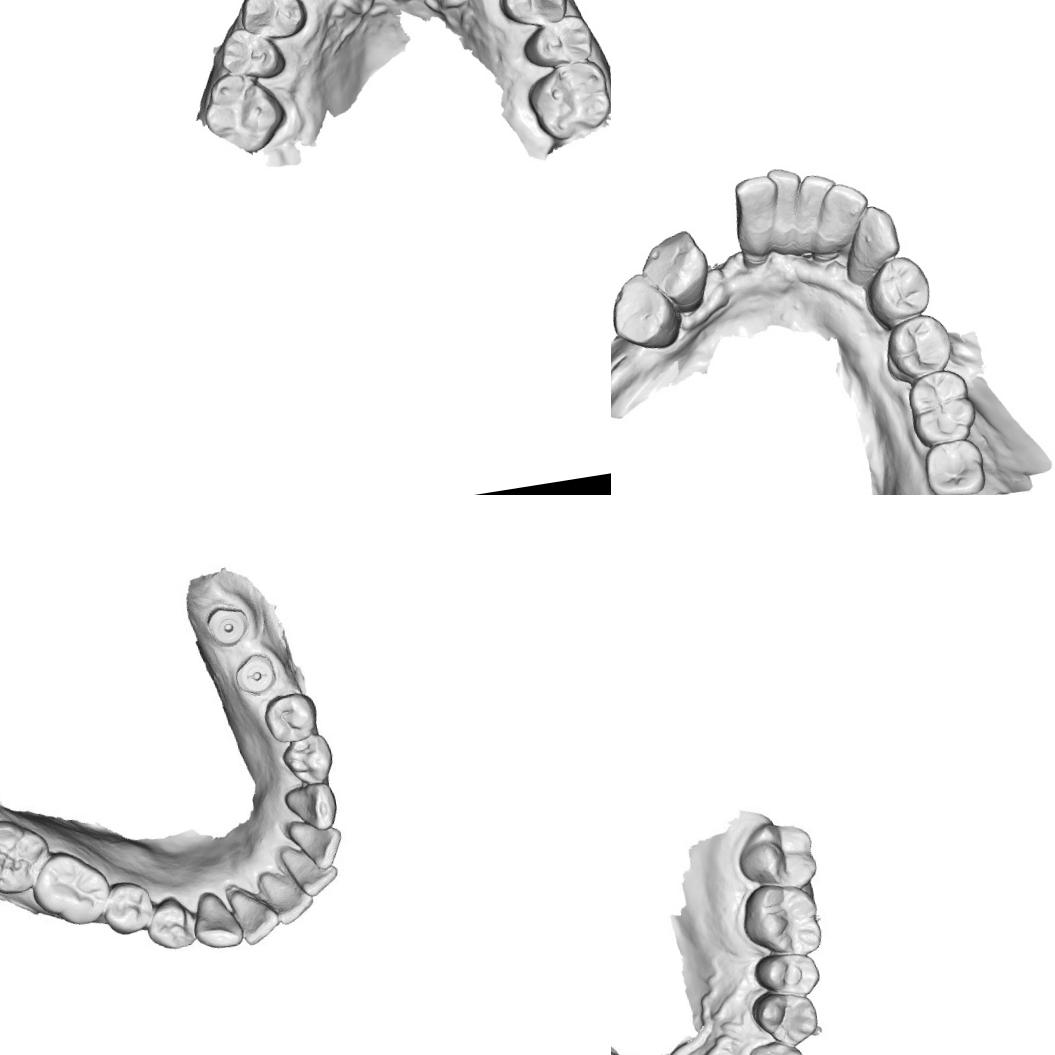canine: (837, 200, 904, 276), (191, 886, 248, 952), (284, 780, 334, 835), (748, 1036, 811, 1055)
implant: (202, 600, 252, 650)
implant_minus: (233, 650, 280, 700)
incisor: (810, 178, 875, 244), (729, 172, 786, 238), (225, 881, 280, 948), (278, 839, 339, 899), (760, 163, 809, 237), (788, 170, 843, 235), (288, 814, 348, 869), (257, 868, 314, 925)
molar: (196, 64, 290, 162), (523, 56, 611, 144), (734, 818, 822, 896), (28, 854, 110, 936), (741, 880, 825, 960), (902, 364, 980, 450), (0, 814, 52, 902), (917, 437, 988, 495)
premolar: (636, 224, 716, 314), (611, 266, 686, 358), (878, 308, 962, 384), (860, 250, 936, 328), (216, 22, 288, 86), (519, 11, 596, 70), (754, 989, 824, 1052), (756, 948, 820, 1004), (235, 0, 311, 45), (278, 732, 336, 788), (99, 880, 157, 936), (264, 690, 320, 747), (144, 897, 197, 954), (494, 0, 571, 31)
